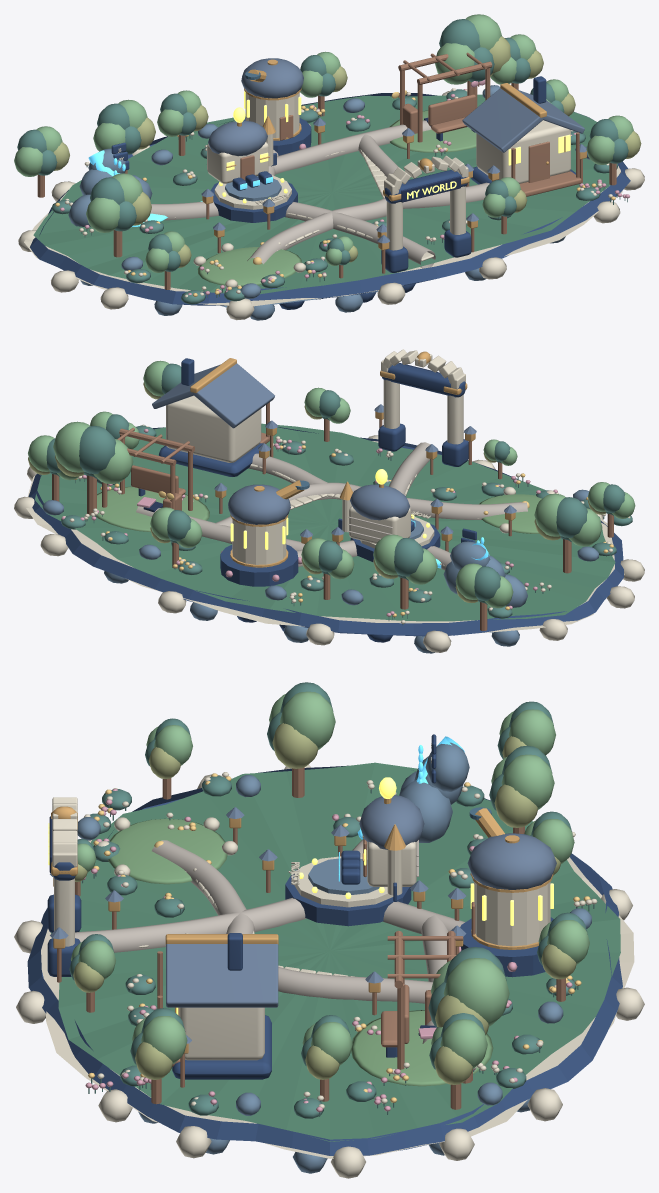
File: my_world_island.glb
The picture shows the model from 3 angles, top to bottom: view 1: azimuth 30°, elevation 25°; view 2: azimuth 150°, elevation 25°; view 3: azimuth 270°, elevation 25°; orthographic projection. The views are drawn at different scales.
Parts seen in each view (by area): view 1: Island / layer 04, Kit / Ivory stone, Kit / Sapphire stone, Kit / Deep foliage, Kit / Sage foliage, Kit / Warm flagstone, Kit / Warm cedar, Kit / Cabin roof, Kit / Slate blue, Kit / Moss green, Kit / Lantern-lit foliage, Kit / Warm brass (+5 smaller); view 2: Island / layer 04, Kit / Ivory stone, Kit / Sapphire stone, Kit / Deep foliage, Kit / Sage foliage, Kit / Cabin roof, Kit / Warm flagstone, Kit / Warm cedar, Kit / Slate blue, Kit / Moss green, Kit / Warm brass, Kit / Lantern-lit foliage (+3 smaller); view 3: Island / layer 04, Kit / Ivory stone, Kit / Sapphire stone, Kit / Sage foliage, Kit / Cabin roof, Kit / Deep foliage, Kit / Warm flagstone, Kit / Lantern-lit foliage, Kit / Slate blue, Kit / Moss green, Kit / Warm cedar, Kit / Warm brass (+3 smaller).
Part boxes in pixels (left/top/right/bottom): Island / layer 04: left=33, top=94, right=610, bottom=294; Kit / Ivory stone: left=18, top=88, right=644, bottom=320; Kit / Sapphire stone: left=30, top=76, right=630, bottom=309; Kit / Deep foliage: left=17, top=19, right=628, bottom=304; Kit / Sage foliage: left=14, top=14, right=633, bottom=272; Kit / Warm flagstone: left=150, top=120, right=489, bottom=268; Kit / Warm cedar: left=37, top=52, right=616, bottom=289; Kit / Cabin roof: left=201, top=58, right=586, bottom=243; Kit / Slate blue: left=68, top=85, right=589, bottom=320; Kit / Moss green: left=197, top=110, right=476, bottom=286; Kit / Lantern-lit foliage: left=53, top=36, right=641, bottom=267; Kit / Warm brass: left=202, top=59, right=586, bottom=250; Island / layer 04: left=35, top=423, right=615, bottom=621; Kit / Ivory stone: left=14, top=349, right=644, bottom=652; Kit / Sapphire stone: left=28, top=358, right=623, bottom=642; Kit / Deep foliage: left=46, top=363, right=632, bottom=625; Kit / Sage foliage: left=28, top=360, right=635, bottom=608; Kit / Cabin roof: left=152, top=363, right=516, bottom=537; Kit / Warm flagstone: left=136, top=442, right=527, bottom=570; Kit / Warm cedar: left=52, top=402, right=613, bottom=630; Kit / Slate blue: left=42, top=489, right=598, bottom=653; Kit / Moss green: left=93, top=486, right=541, bottom=533; Kit / Warm brass: left=190, top=351, right=515, bottom=567; Kit / Lantern-lit foliage: left=28, top=382, right=605, bottom=602; Island / layer 04: left=51, top=762, right=620, bottom=1141; Kit / Ivory stone: left=14, top=764, right=644, bottom=1178; Kit / Sapphire stone: left=27, top=765, right=622, bottom=1155; Kit / Sage foliage: left=71, top=691, right=589, bottom=1068; Kit / Cabin roof: left=50, top=795, right=556, bottom=1043; Kit / Deep foliage: left=69, top=682, right=594, bottom=1118; Kit / Warm flagstone: left=75, top=839, right=465, bottom=1043; Kit / Lantern-lit foliage: left=73, top=723, right=576, bottom=1084; Kit / Slate blue: left=77, top=742, right=591, bottom=1173; Kit / Moss green: left=108, top=818, right=493, bottom=1086; Kit / Warm cedar: left=57, top=767, right=565, bottom=1109; Kit / Warm brass: left=51, top=798, right=553, bottom=1053.
Size of the model in its own units: 18.18 by 5.7 by 12.
